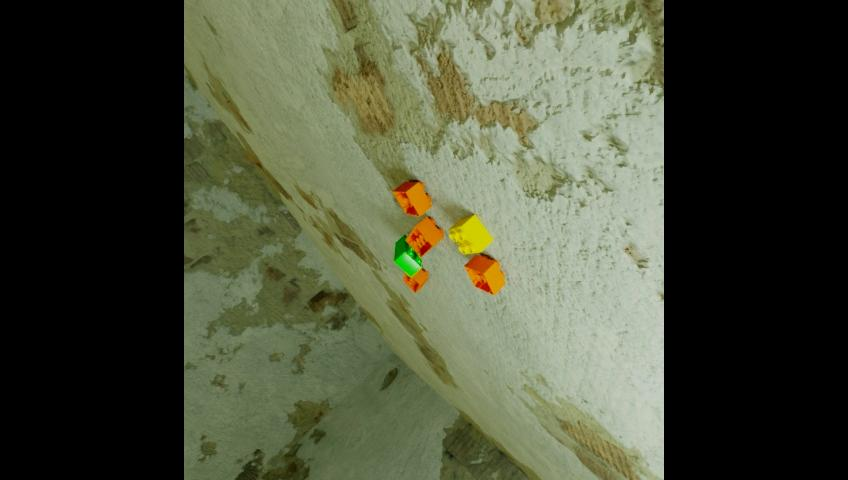2x2_orange: (463, 255, 505, 295), (392, 182, 432, 216)
2x2_yellow: (447, 215, 493, 254)
4x2_green: (393, 235, 421, 276)
4x2_orange: (404, 217, 443, 257), (402, 269, 428, 293)
